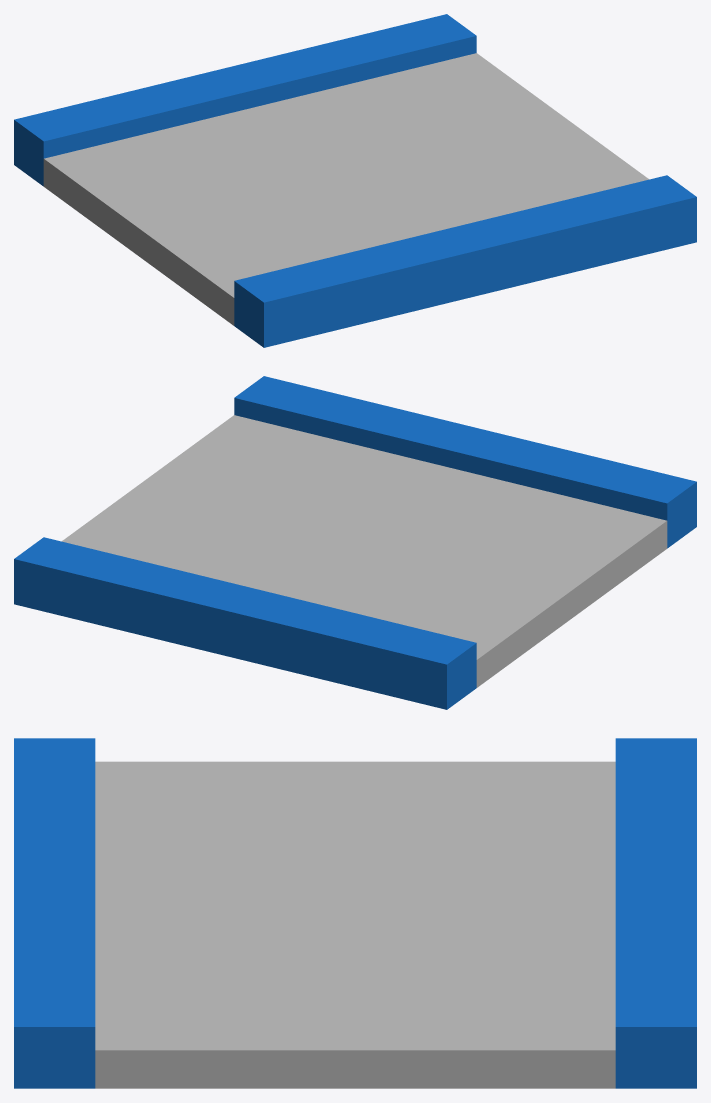
Rendered from blue_straight.fbx.
3 views of the same model, one above another, from view 1: azimuth 30°, elevation 25°; view 2: azimuth 150°, elevation 25°; view 3: azimuth 270°, elevation 25° (orthographic). The views are drawn at different scales.
Parts seen in each view (by area): view 1: Blue_straight; view 2: Blue_straight; view 3: Blue_straight.
Boxes of the visible parts, bbox=[...] form: Blue_straight: bbox=[14, 14, 696, 347]; Blue_straight: bbox=[14, 376, 696, 709]; Blue_straight: bbox=[14, 738, 696, 1088].
Size of the model in its own units: 1 by 0.1 by 1.
Materials: 1 (1 with a texture image).
